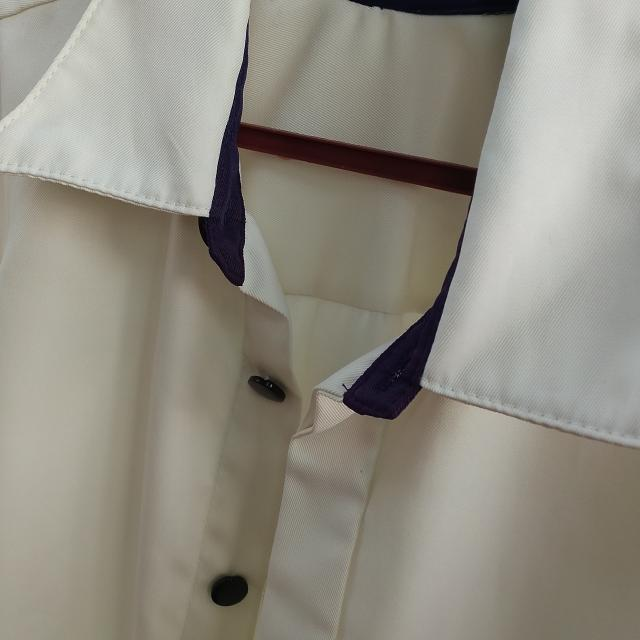education_male_uniform: (4, 0, 640, 507)
